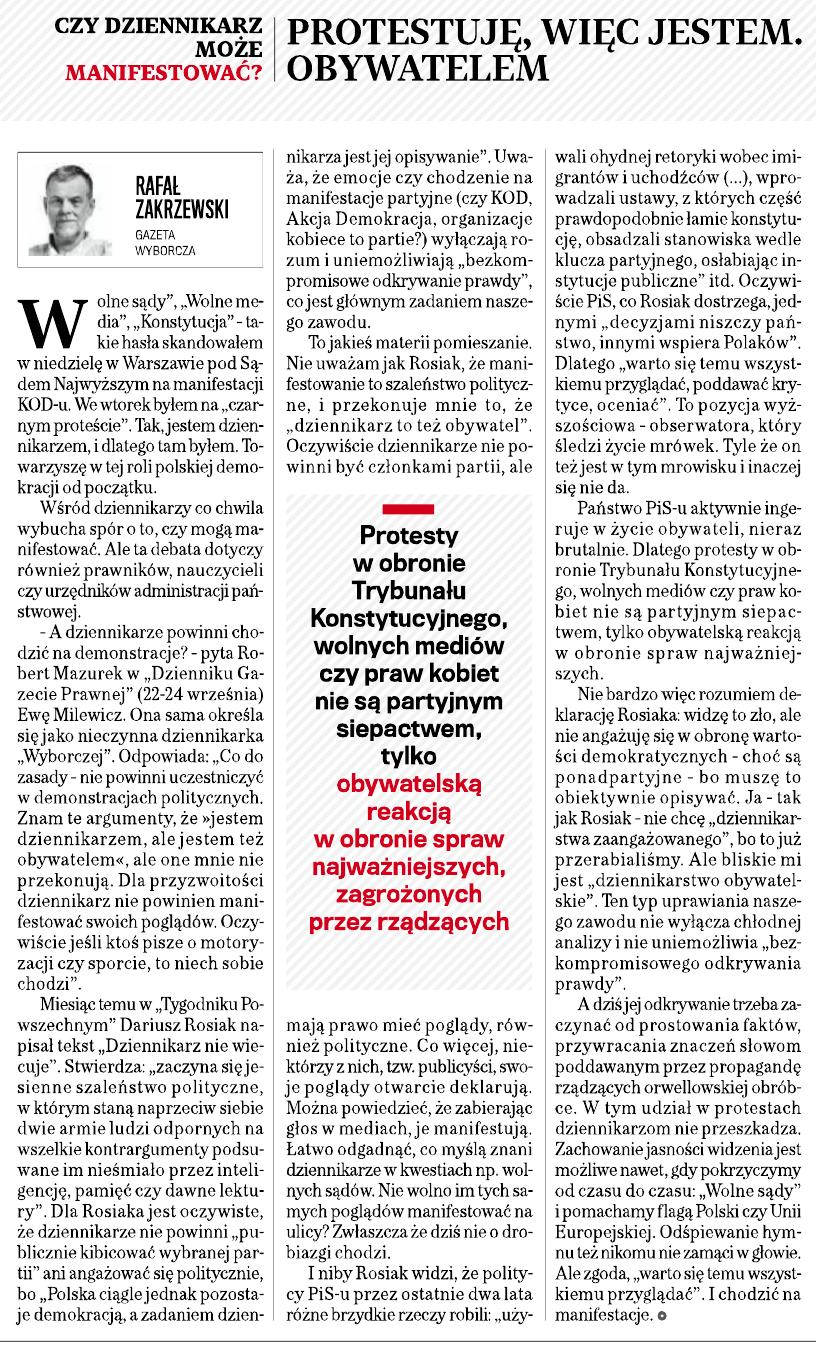author: (125, 163, 244, 225)
body: (549, 143, 811, 1327), (6, 280, 271, 1334), (303, 496, 522, 944), (277, 142, 540, 482), (280, 1010, 537, 1327)
title: (43, 3, 814, 102)
